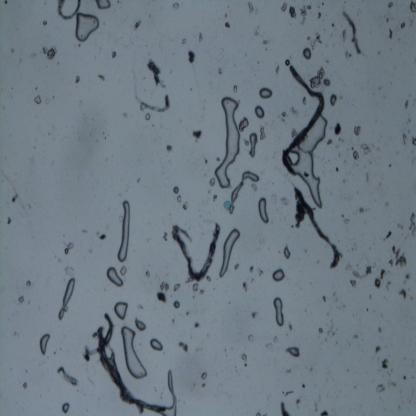Air bubble: (293, 124, 330, 210), (215, 96, 241, 190), (120, 327, 148, 379), (228, 172, 261, 215), (218, 227, 240, 278), (117, 199, 131, 264), (58, 277, 76, 321), (75, 12, 100, 42), (164, 368, 178, 416), (272, 296, 285, 328), (107, 266, 124, 289), (257, 198, 270, 224), (113, 300, 128, 321), (249, 132, 258, 159), (40, 333, 50, 356), (149, 338, 165, 352), (272, 268, 285, 283), (258, 86, 274, 98), (286, 345, 300, 358), (134, 318, 147, 332), (282, 244, 292, 260), (254, 106, 266, 119), (96, 0, 111, 10), (60, 402, 72, 414), (302, 47, 312, 61)
Background material: (82, 313, 114, 363), (146, 61, 167, 89), (387, 244, 409, 268), (309, 64, 328, 90), (56, 365, 79, 386), (324, 317, 338, 342), (352, 265, 372, 279), (305, 33, 323, 48), (264, 334, 278, 352), (42, 45, 57, 61), (374, 269, 385, 290), (238, 116, 249, 133), (409, 213, 416, 238), (63, 242, 75, 256), (332, 121, 342, 137), (300, 5, 308, 25), (62, 264, 74, 277), (156, 291, 168, 304), (360, 143, 372, 156), (178, 340, 189, 354), (280, 400, 290, 415), (328, 93, 338, 107), (381, 358, 391, 372), (278, 109, 288, 123), (347, 278, 358, 290), (374, 383, 386, 394), (159, 280, 170, 292), (385, 378, 398, 388), (261, 36, 270, 50), (187, 50, 196, 64), (288, 6, 297, 20), (289, 105, 300, 116), (222, 199, 232, 211), (192, 320, 202, 332), (172, 282, 182, 294), (133, 18, 143, 30), (287, 317, 295, 332), (242, 352, 249, 368), (279, 195, 289, 206), (192, 130, 202, 141), (246, 332, 255, 344), (352, 125, 361, 137), (281, 390, 294, 398), (190, 282, 200, 292), (398, 289, 407, 300), (255, 266, 264, 277), (401, 132, 408, 146), (12, 328, 20, 340), (247, 264, 255, 276), (352, 150, 360, 162), (274, 62, 282, 74), (260, 126, 266, 142), (409, 1, 416, 14), (197, 30, 204, 43), (247, 1, 254, 14), (165, 144, 174, 154), (99, 232, 108, 242), (33, 96, 42, 106), (290, 127, 298, 138), (110, 50, 118, 61), (320, 293, 328, 304), (386, 278, 392, 292), (283, 366, 292, 375), (172, 300, 181, 309), (280, 2, 288, 12), (172, 185, 180, 195), (318, 408, 328, 416), (250, 310, 258, 320), (388, 28, 394, 41), (403, 273, 410, 284), (162, 230, 169, 241), (201, 370, 208, 381), (182, 201, 189, 212), (233, 262, 241, 271), (97, 74, 106, 82), (374, 345, 382, 354), (295, 397, 301, 409), (5, 217, 13, 226), (12, 192, 18, 204), (224, 20, 231, 30), (77, 98, 84, 108), (385, 231, 392, 241), (74, 74, 81, 84), (254, 411, 268, 416), (144, 112, 151, 122), (212, 192, 218, 203), (364, 172, 370, 183), (209, 175, 214, 188), (204, 274, 212, 282), (18, 296, 26, 304), (172, 2, 180, 10), (216, 67, 223, 76), (254, 28, 260, 38), (404, 100, 409, 112), (302, 95, 308, 105), (25, 280, 32, 288), (144, 270, 151, 278), (184, 309, 192, 316), (9, 46, 16, 54), (315, 12, 323, 19), (244, 136, 249, 147), (388, 1, 394, 10), (242, 283, 248, 292), (318, 326, 324, 335), (400, 21, 406, 30), (377, 325, 383, 334), (344, 218, 350, 227), (181, 38, 187, 46), (176, 196, 182, 204), (410, 137, 416, 145), (213, 156, 221, 162), (306, 3, 312, 11), (358, 206, 364, 214), (135, 304, 142, 310), (233, 86, 238, 94), (285, 58, 290, 66), (327, 138, 332, 146), (23, 380, 27, 390), (86, 248, 92, 254), (56, 258, 62, 264), (136, 176, 141, 183), (388, 161, 392, 169), (200, 290, 205, 296), (83, 228, 88, 234), (42, 20, 48, 25), (335, 167, 339, 174), (302, 382, 306, 389), (204, 159, 209, 164), (24, 368, 28, 374), (331, 22, 335, 28), (290, 224, 294, 230), (368, 294, 372, 300), (202, 383, 206, 388), (34, 86, 39, 90), (366, 308, 370, 312), (173, 318, 175, 326), (320, 2, 324, 6), (59, 346, 62, 351), (116, 0, 119, 4), (53, 350, 56, 354), (404, 375, 406, 380), (78, 44, 81, 47)
Cellulose filter fibre: (94, 327, 166, 413), (282, 65, 326, 176), (293, 185, 345, 267), (170, 223, 220, 280), (131, 68, 171, 112), (342, 11, 362, 55), (57, 0, 82, 20)
